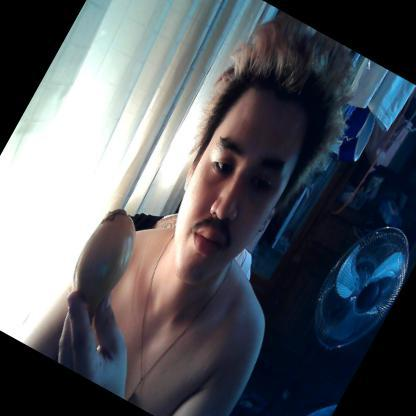onion: (52, 204, 150, 324)
